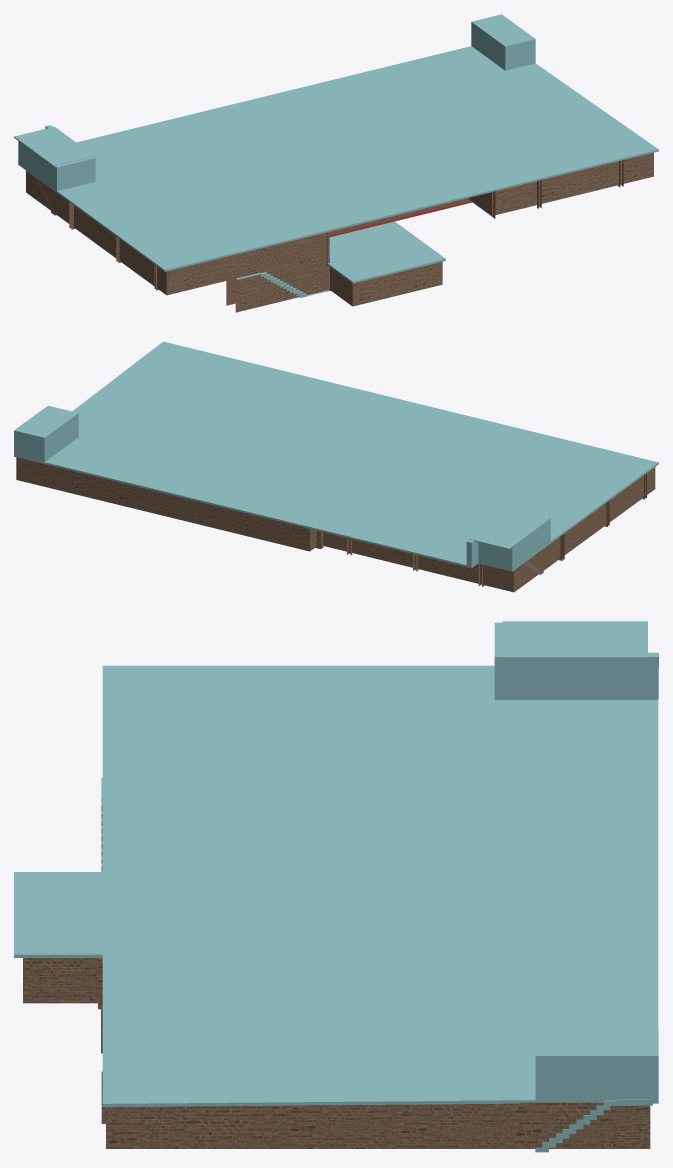
Rendered from Mansion_V2.fbx.
3 views of the same model, one above another, from view 1: azimuth 30°, elevation 25°; view 2: azimuth 150°, elevation 25°; view 3: azimuth 270°, elevation 25° (orthographic). The views are drawn at different scales.
Parts seen in each view (by area): view 1: Techos, Mansion; view 2: Techos, Mansion; view 3: Techos, Mansion.
Boxes of the visible parts, box(x1,y1,x2,y2) form: Techos: box(14, 14, 658, 283); Mansion: box(26, 152, 653, 312); Techos: box(14, 341, 658, 571); Mansion: box(16, 457, 655, 592); Techos: box(14, 621, 658, 1107); Mansion: box(23, 778, 652, 1152).
Size of the model in its own units: 6095 by 1003 by 3784.
